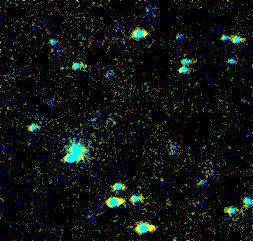star: (60, 138, 90, 168)
